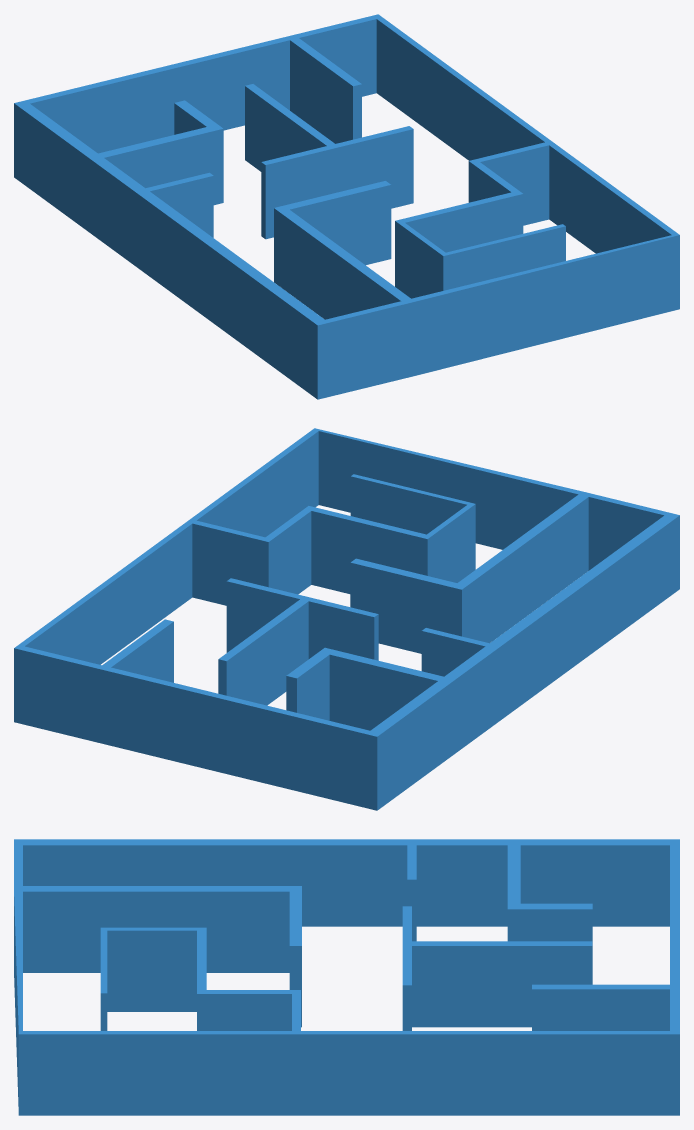
Rendered from maze.dae.
3 renders of one model, top to bottom at view 1: azimuth 30°, elevation 25°; view 2: azimuth 150°, elevation 25°; view 3: azimuth 270°, elevation 25°, orthographic. The views are drawn at different scales.
Visible parts, largest first — view 1: Cube; view 2: Cube; view 3: Cube.
Part boxes in pixels (x1=…): Cube: x1=14, y1=14, x2=679, y2=399; Cube: x1=14, y1=428, x2=679, y2=810; Cube: x1=14, y1=839, x2=679, y2=1115.
Bounding box in the file's own units: 7.61 × 10.99 × 1.48.
